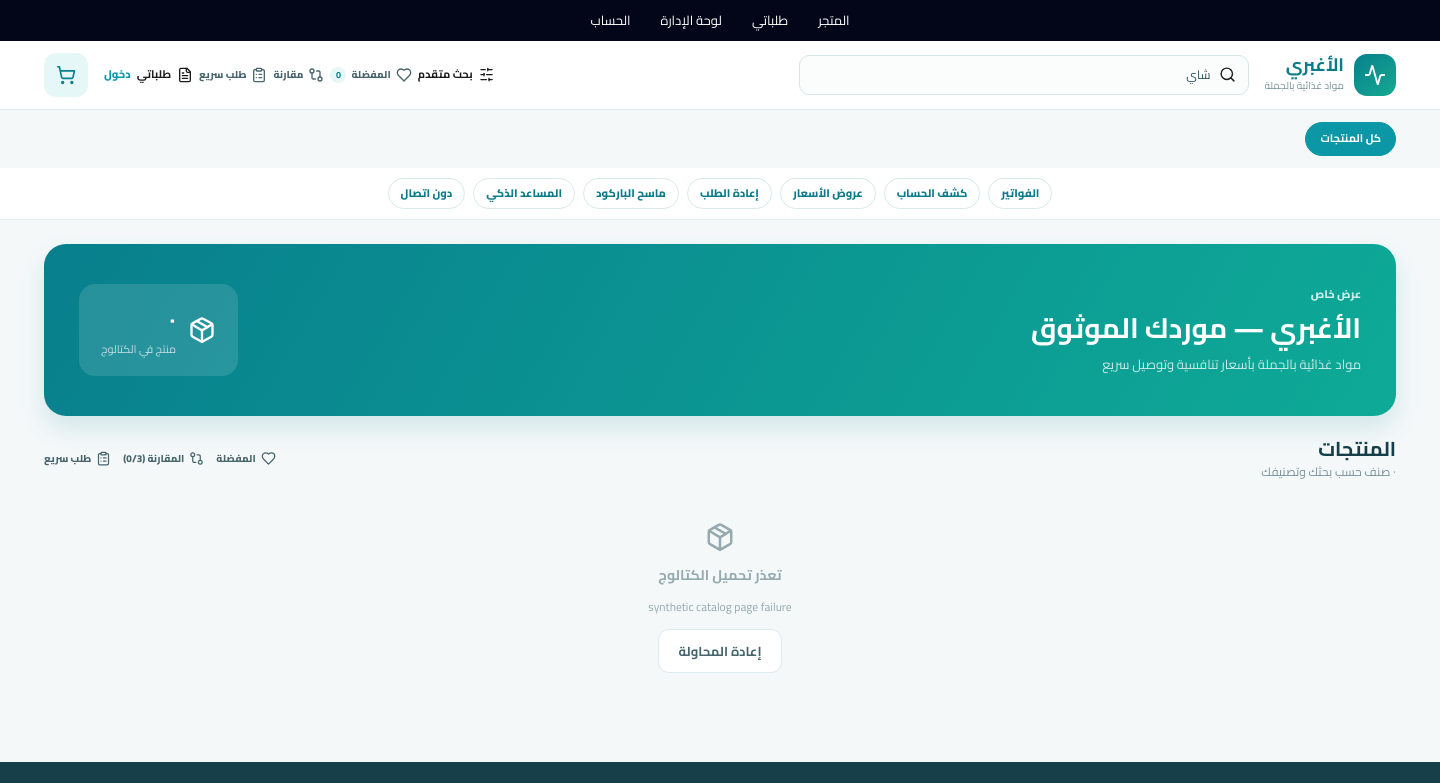
Test case: public storefront product route acceptance › shows catalog fetch failures and retries without rendering stale or fabricated results
Expected: the message "تعذر تحميل الكتالوج synthetic catalog page failure إعادة المحاولة" is shown, [648, 522, 792, 673]
Expected: the text "صنف اختبار" is not shown
Click the button "إعادة المحاولة".
click(720, 651)  # box [658, 629, 782, 673]
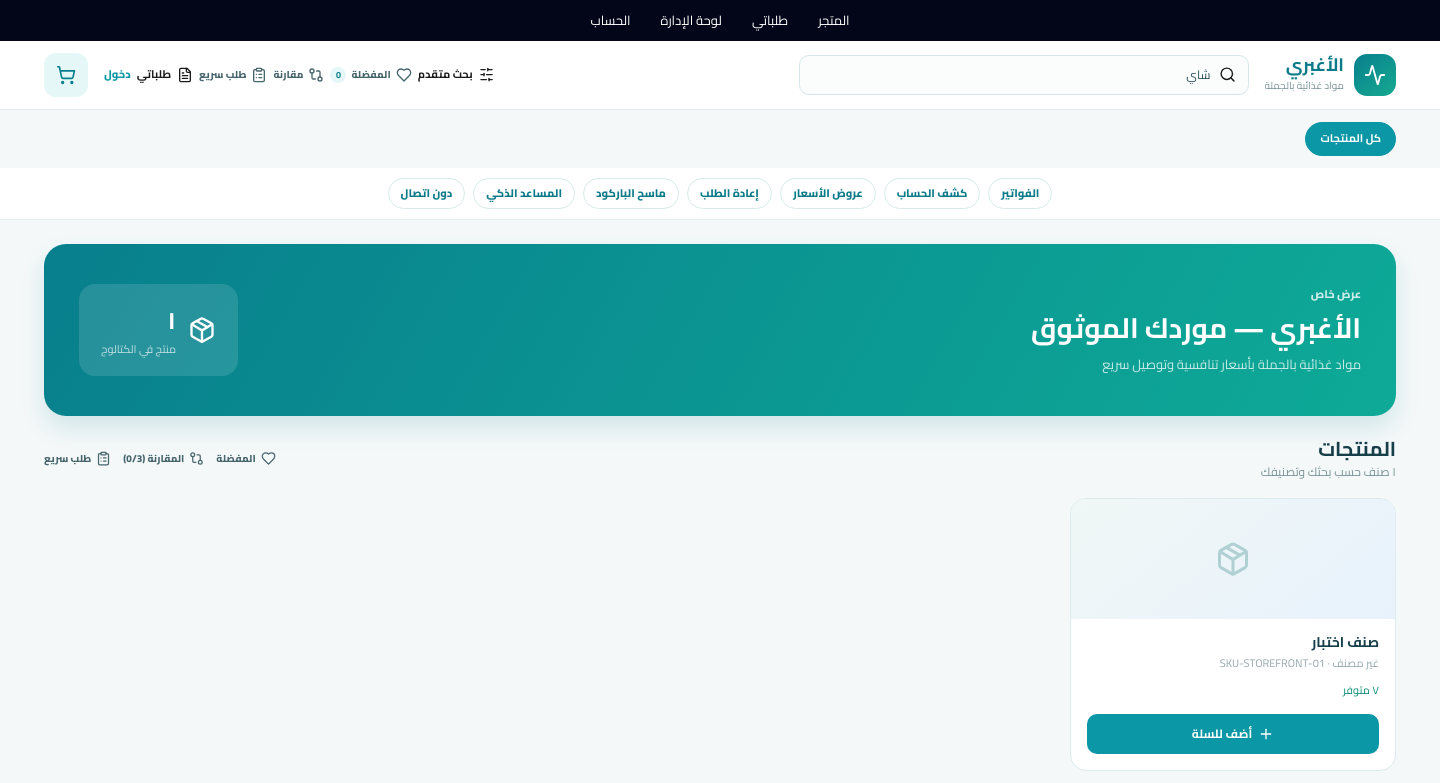
Now the message "تعذر تحميل الكتالوج synthetic catalog page failure إعادة المحاولة" is gone
Now the text "صنف اختبار" is shown, box [1312, 629, 1379, 655]
